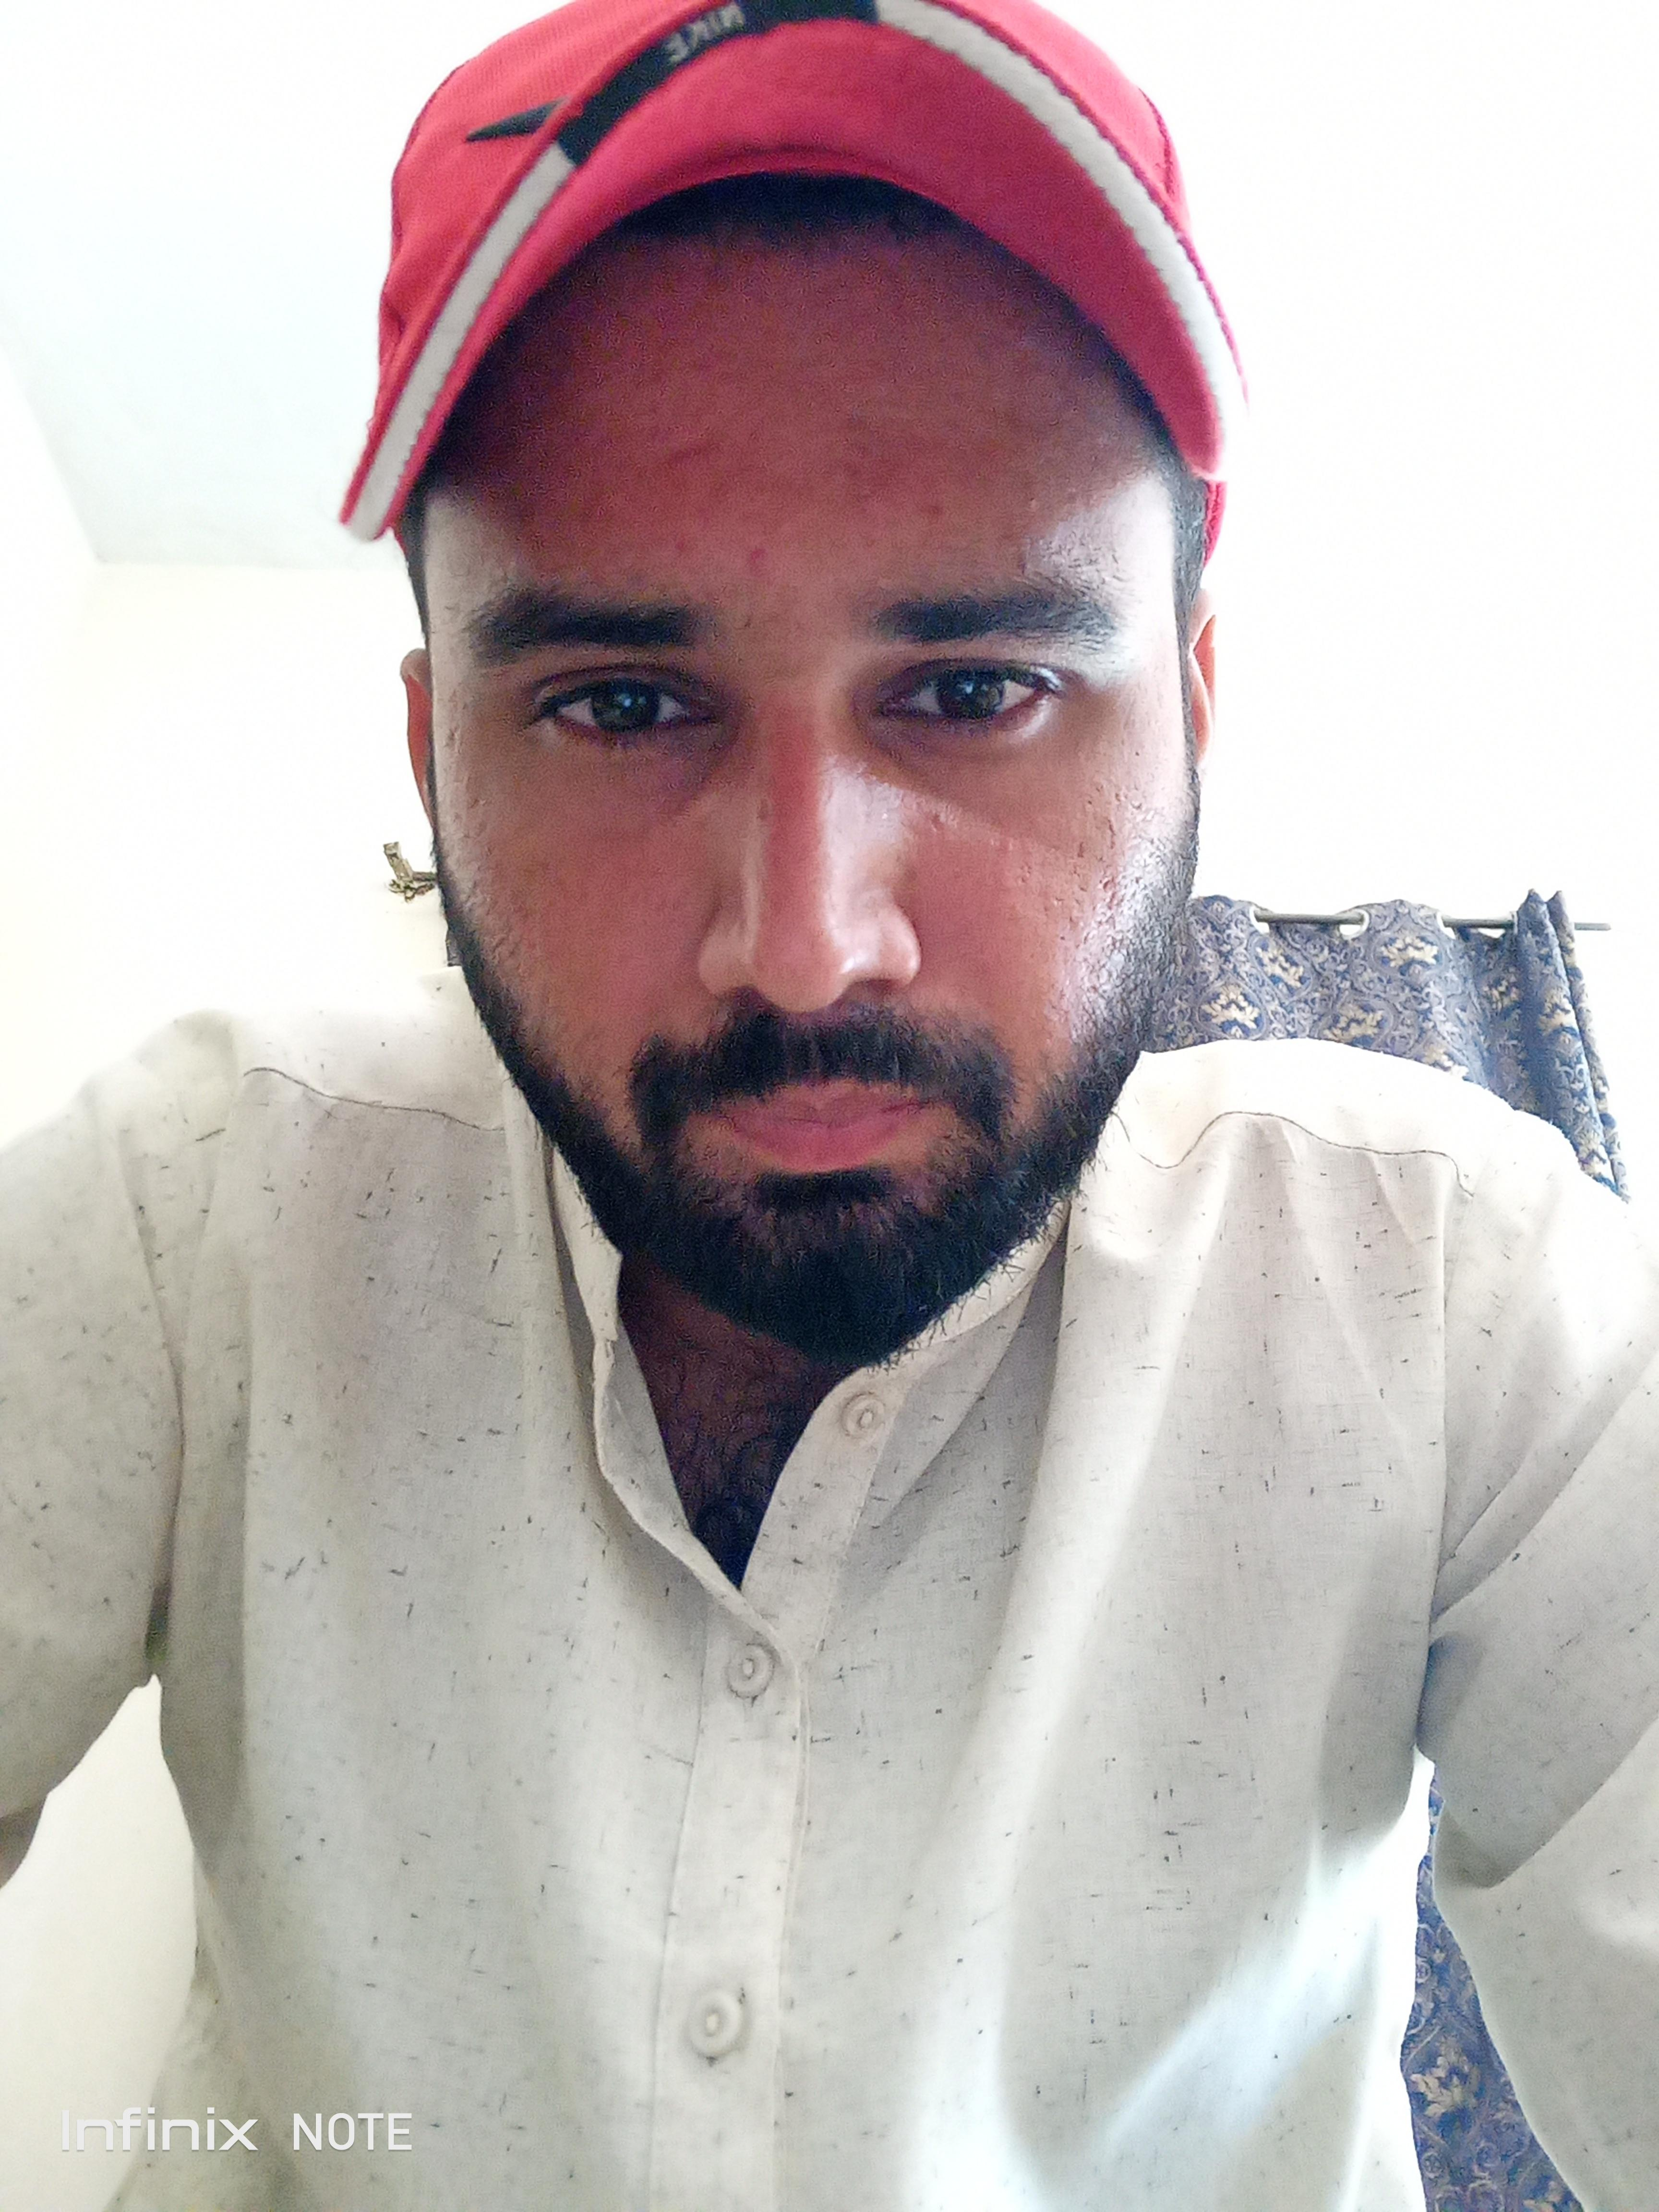Acne: (918, 486, 957, 526), (737, 540, 779, 577), (1018, 489, 1049, 519), (662, 533, 695, 559), (925, 810, 948, 831)
Englarged-Pores: (483, 824, 704, 948), (993, 803, 1103, 965), (443, 678, 481, 765)
